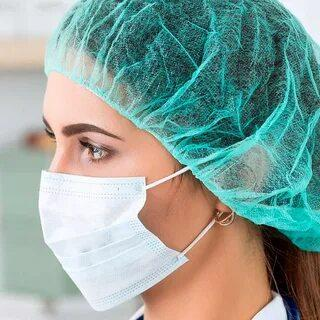hairnet: (39, 0, 320, 242)
mask: (10, 147, 219, 296)
